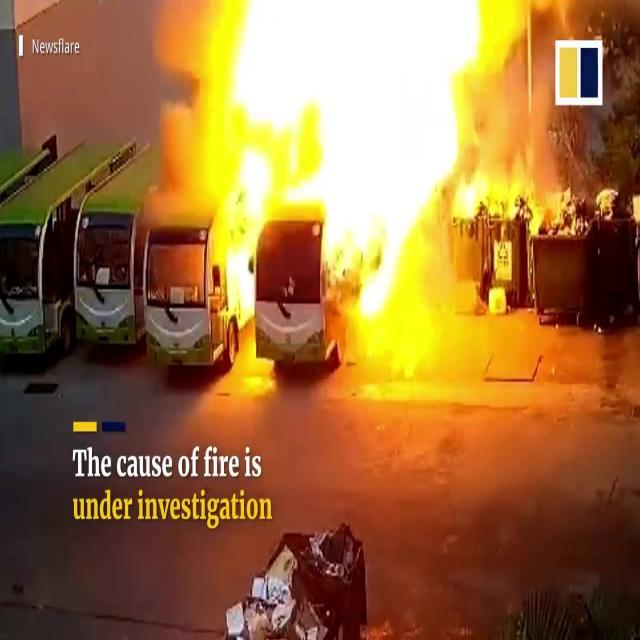Fire: (190, 0, 512, 390)
